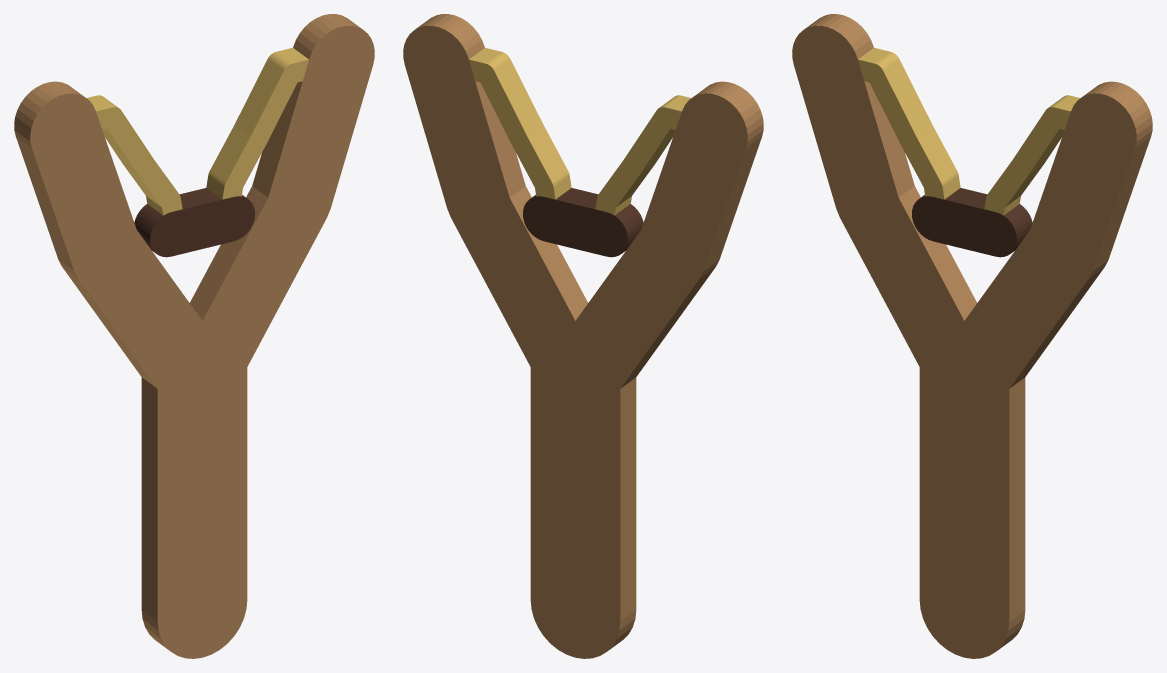
Rendered from NEW_RECOVERY_049_LOD0.fbx.
The picture shows the model from 3 angles, left to right: view 1: azimuth 30°, elevation 25°; view 2: azimuth 150°, elevation 25°; view 3: azimuth 330°, elevation 25°; orthographic projection.
Parts seen in each view (by area): view 1: Slingshot; view 2: Slingshot; view 3: Slingshot.
Part boxes in pixels (x1,y1,x2,y2): Slingshot: (14,14,374,658); Slingshot: (403,14,763,658); Slingshot: (792,14,1152,658).
Size of the model in its own units: 154 by 12.5 by 255.
